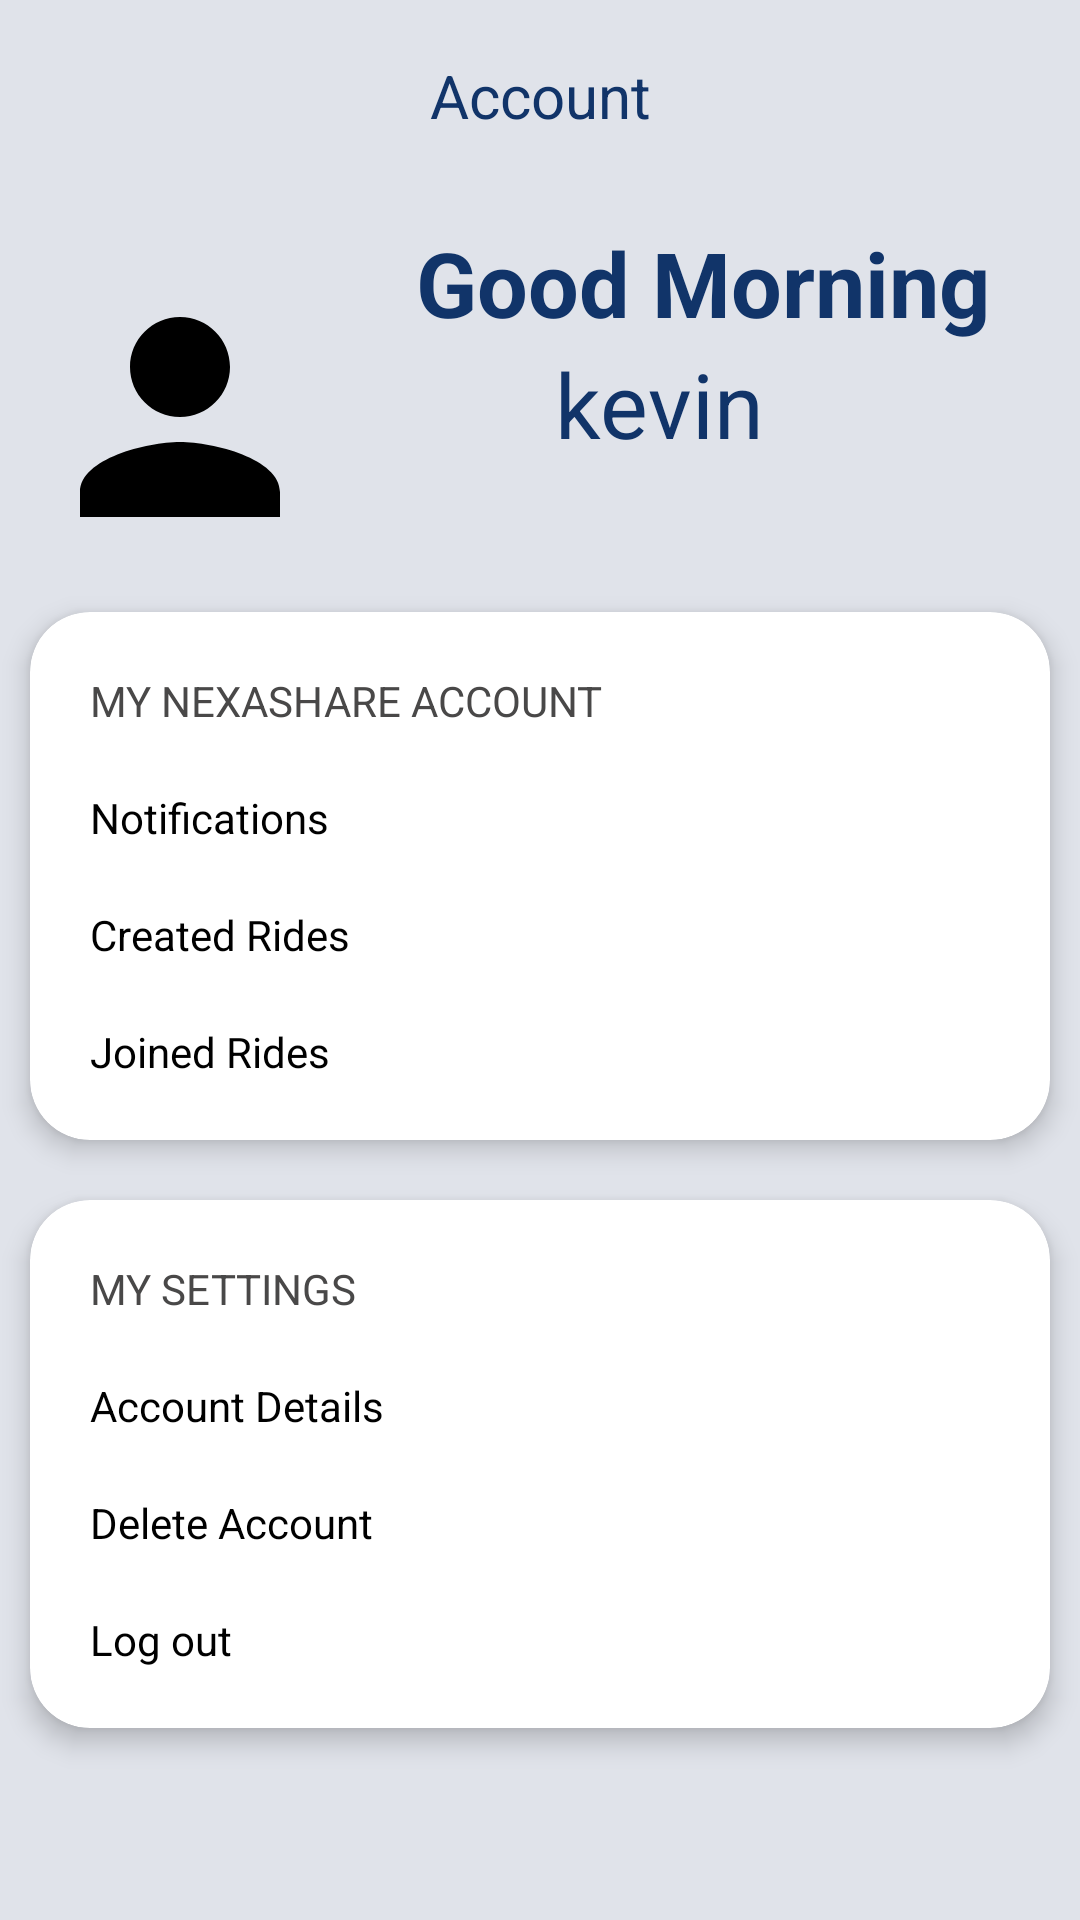

Locate icon controls on the screen. Image size 1080×1920, boxes as [x1, y1, x2, y2].
person: [80, 317, 280, 517]
